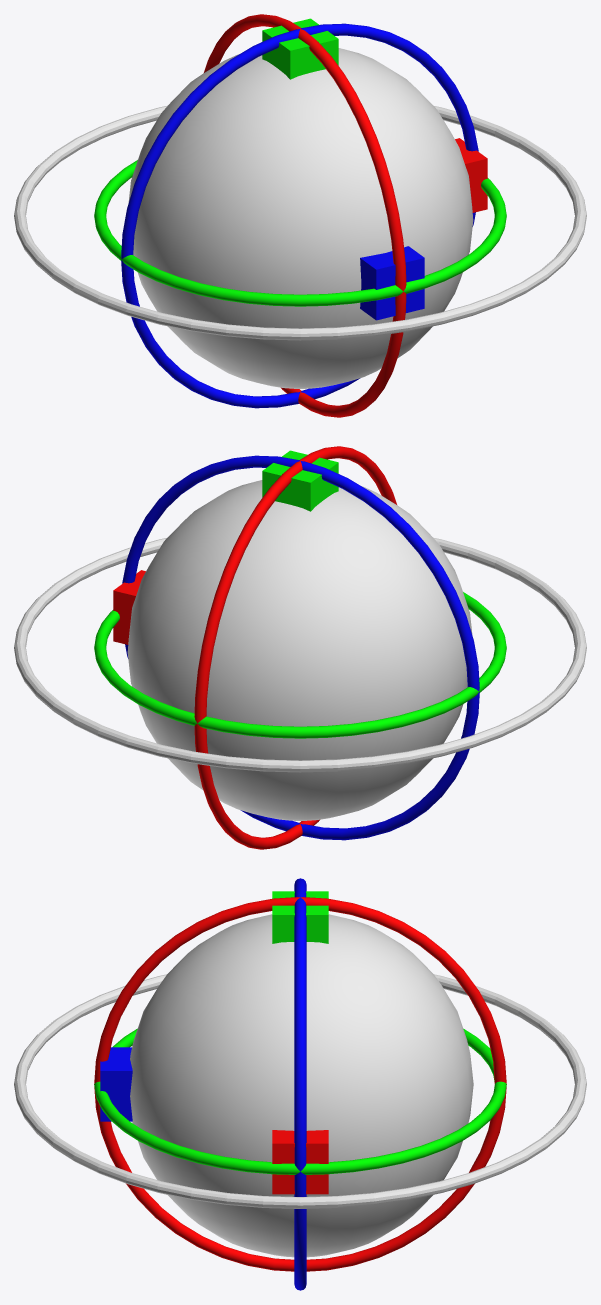
3 renders of one model, top to bottom at view 1: azimuth 30°, elevation 25°; view 2: azimuth 150°, elevation 25°; view 3: azimuth 270°, elevation 25°, orthographic.
Visible parts, largest first — view 1: trackball, rot_axis_viewport, rot_axis_z, rot_axis_x, rot_axis_y, scale_axis_z, scale_axis_y, scale_axis_x; view 2: trackball, rot_axis_viewport, rot_axis_z, rot_axis_x, rot_axis_y, scale_axis_y, scale_axis_x; view 3: trackball, rot_axis_x, rot_axis_viewport, rot_axis_y, rot_axis_z, scale_axis_x, scale_axis_y, scale_axis_z.
Boxes of the visible parts, left/top/right/bottom form: trackball: left=128, top=48, right=473, bottom=388; rot_axis_viewport: left=14, top=105, right=586, bottom=340; rot_axis_z: left=121, top=23, right=478, bottom=408; rot_axis_x: left=204, top=14, right=406, bottom=417; rot_axis_y: left=94, top=160, right=506, bottom=306; scale_axis_z: left=360, top=246, right=424, bottom=320; scale_axis_y: left=262, top=18, right=338, bottom=79; scale_axis_x: left=455, top=138, right=487, bottom=212; trackball: left=127, top=480, right=472, bottom=820; rot_axis_viewport: left=14, top=537, right=586, bottom=772; rot_axis_z: left=122, top=455, right=479, bottom=840; rot_axis_x: left=194, top=446, right=396, bottom=849; rot_axis_y: left=94, top=592, right=506, bottom=738; scale_axis_y: left=262, top=450, right=338, bottom=511; scale_axis_x: left=113, top=570, right=145, bottom=644; trackball: left=130, top=914, right=473, bottom=1257; rot_axis_x: left=94, top=897, right=506, bottom=1271; rot_axis_viewport: left=14, top=974, right=586, bottom=1208; rot_axis_y: left=94, top=1028, right=506, bottom=1174; rot_axis_z: left=294, top=878, right=306, bottom=1290; scale_axis_x: left=272, top=1130, right=328, bottom=1194; scale_axis_y: left=272, top=891, right=328, bottom=943; scale_axis_z: left=100, top=1047, right=132, bottom=1121.
Size of the model in its own units: 2.86 by 2.06 by 2.86.
